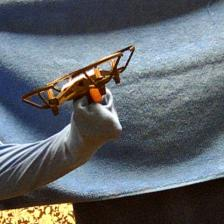drone: (22, 45, 135, 120)
